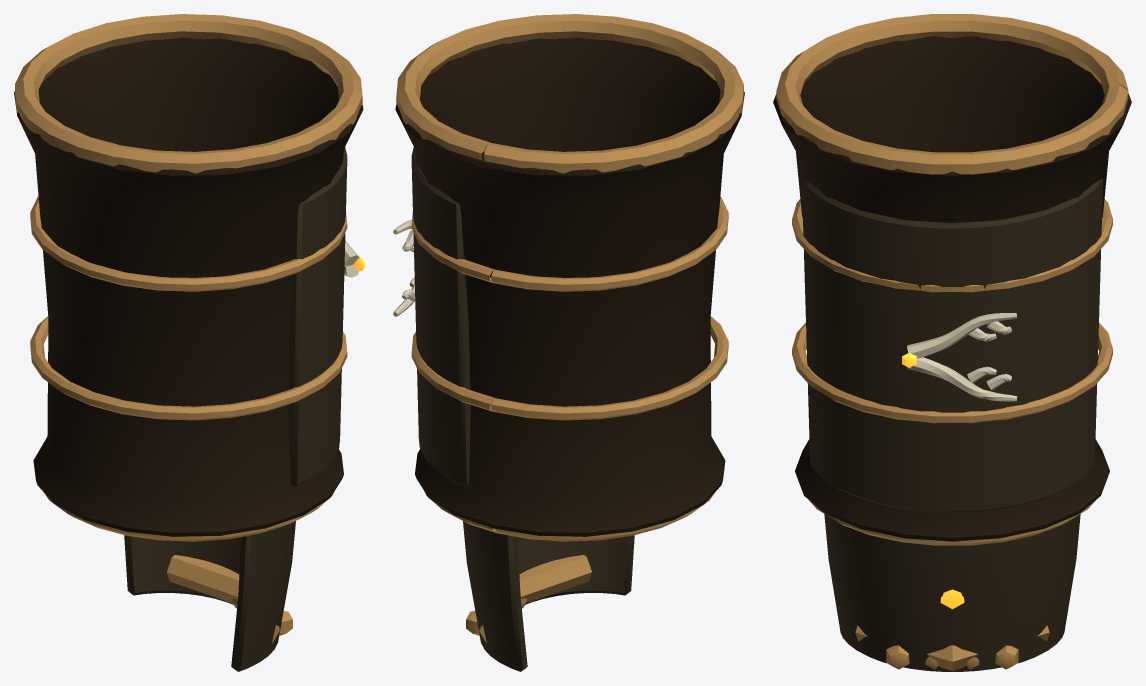
The model's file is asc_wildroot_hunter_gloves.glb.
The picture shows the model from 3 angles, left to right: view 1: azimuth 30°, elevation 25°; view 2: azimuth 150°, elevation 25°; view 3: azimuth 270°, elevation 25°; orthographic projection.
Visible parts, largest first — view 1: asc_wildroot_hunter_gloves, AT_hand_L; view 2: asc_wildroot_hunter_gloves, AT_hand_L; view 3: asc_wildroot_hunter_gloves, AT_hand_L.
Boxes of the visible parts, <box> form: asc_wildroot_hunter_gloves: <box>14,14,364,541</box>; AT_hand_L: <box>124,521,295,671</box>; asc_wildroot_hunter_gloves: <box>393,14,744,541</box>; AT_hand_L: <box>463,521,634,671</box>; asc_wildroot_hunter_gloves: <box>773,14,1131,545</box>; AT_hand_L: <box>824,514,1080,671</box>.
Size of the model in its own units: 0.1986 by 0.3408 by 0.2004.
